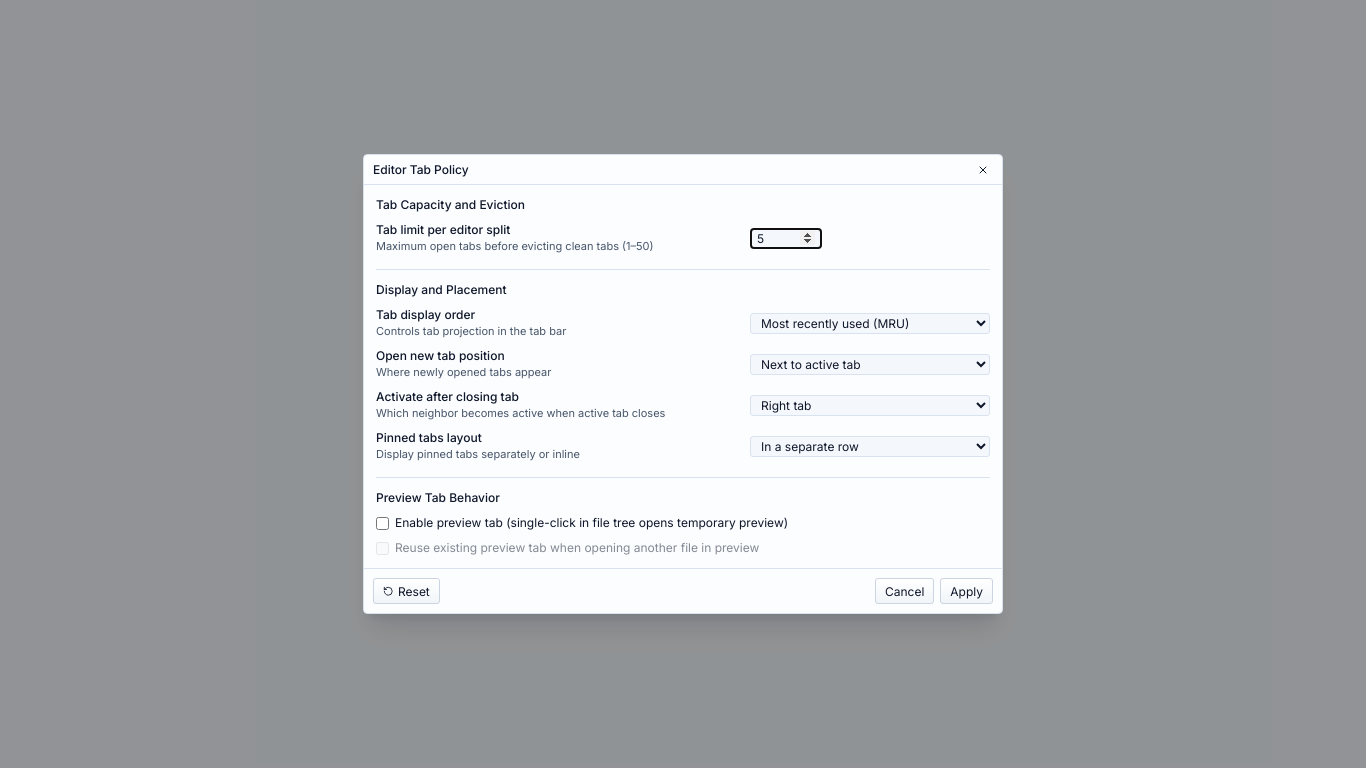
Scenario: WorkspaceTabPolicySettingsDialog › resets to default policy when reset button is clicked
Check: the number field with test id "workspace-tab-policy-limit" holds "5", box [750,228,822,248]
Click the button with test id "workspace-tab-policy-reset".
click(406, 591)  # box [373,578,440,604]
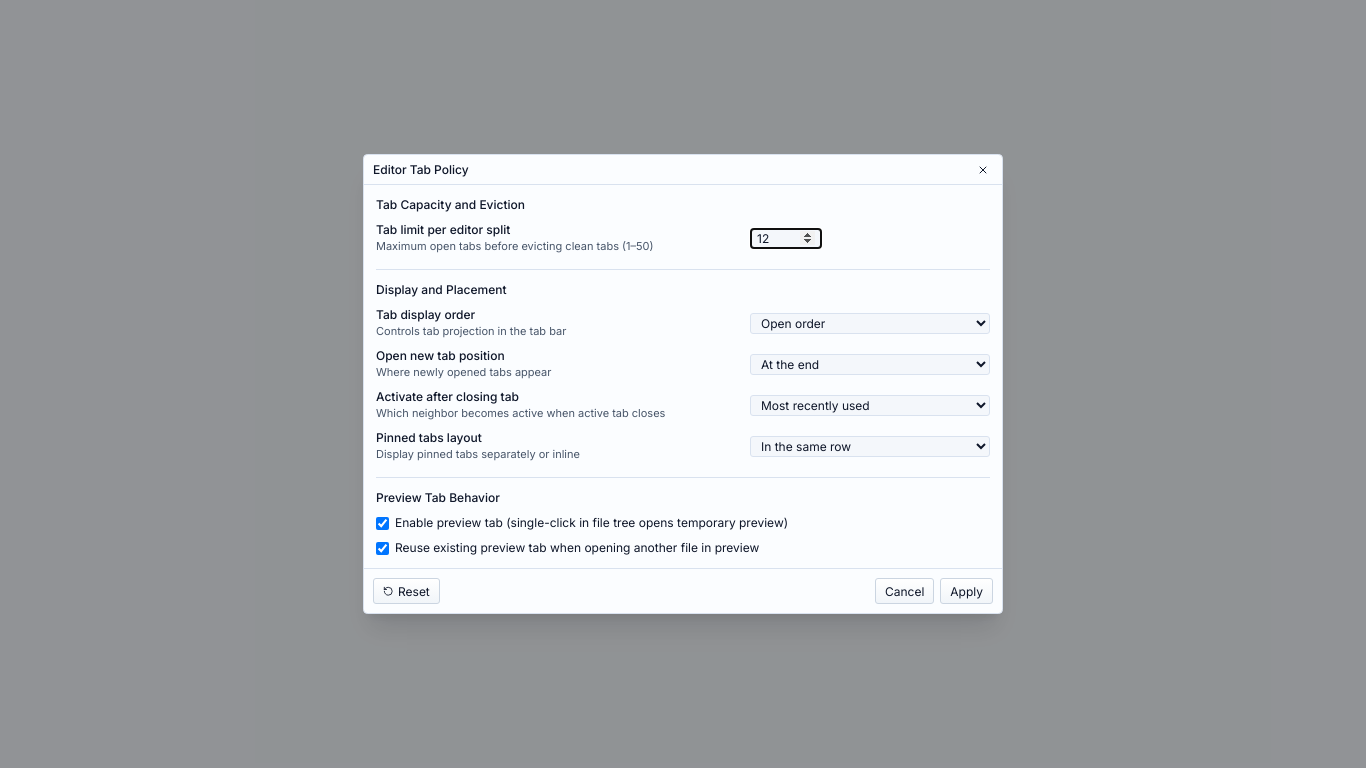
Check: the number field with test id "workspace-tab-policy-limit" holds "12", box [750,228,822,248]
Check: the dropdown with test id "workspace-tab-policy-order" shows "Open order", box [750,312,990,334]
